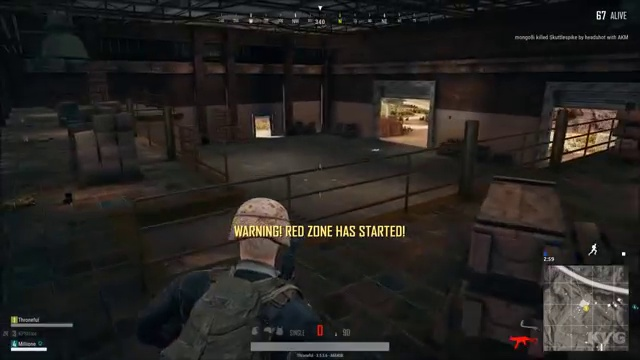Player: (149, 189, 356, 321)
